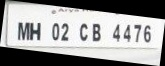character: (17, 21, 29, 40), (29, 21, 40, 41), (79, 22, 88, 41), (92, 22, 101, 41), (122, 24, 131, 42), (112, 23, 120, 43), (51, 22, 59, 41), (60, 22, 68, 41), (133, 23, 141, 42), (143, 24, 151, 42)
